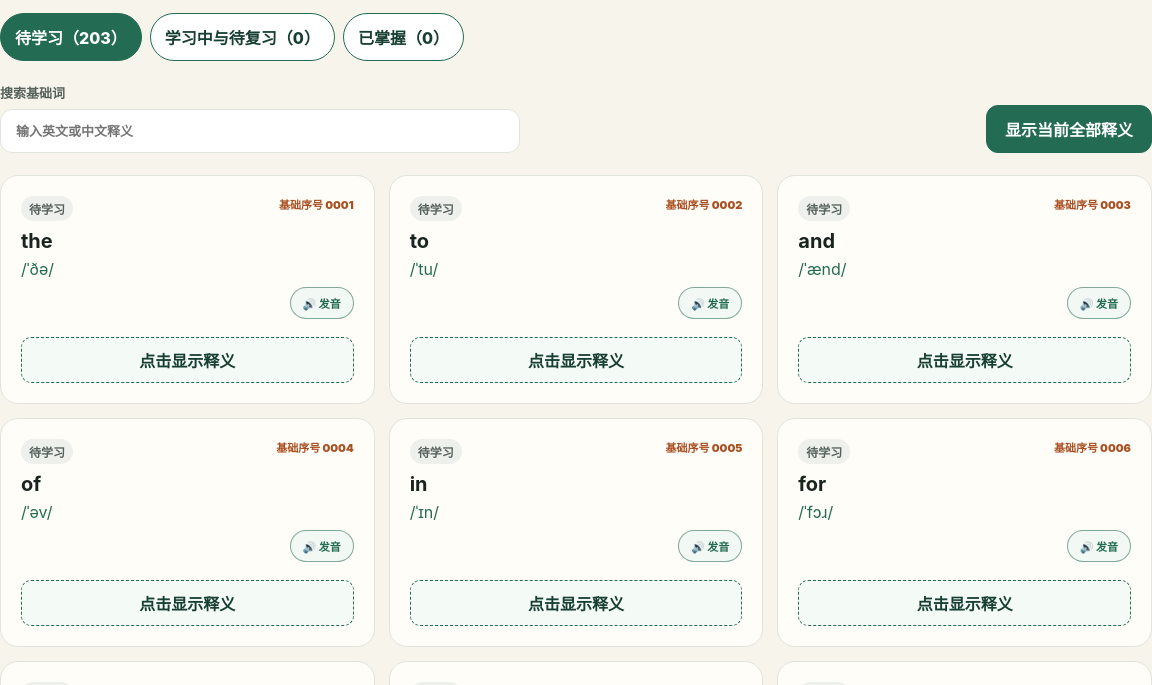
Scenario: FoundationVocabularyPage › hides meanings by default and exposes no manual mastery control
(page scrolled)
Expected: the text "这，那；特指的人或物" is not shown
Click the button with aria-label "显示 the 的释义". click: [187, 360]
box: [21,337,354,383]
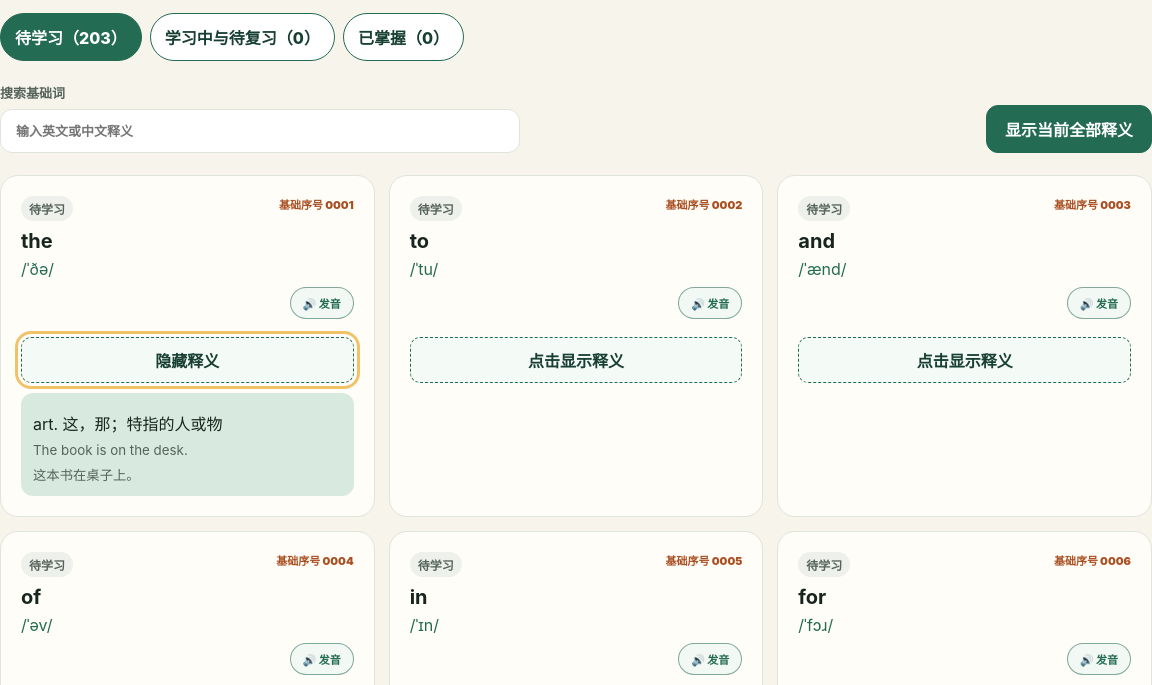
Expected: the text "art. 这，那；特指的人或物" is shown, [33,414,223,434]
